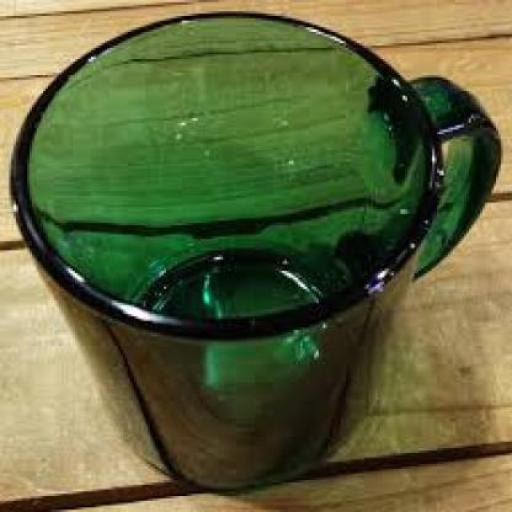glass: (9, 9, 501, 489)
